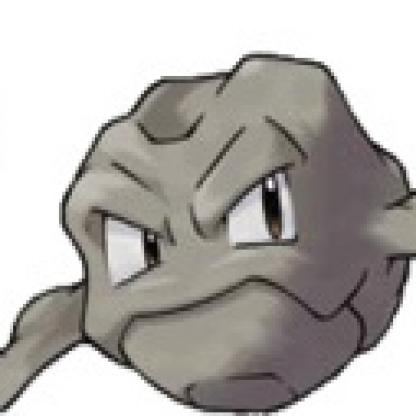Geodude: (1, 15, 416, 416)
